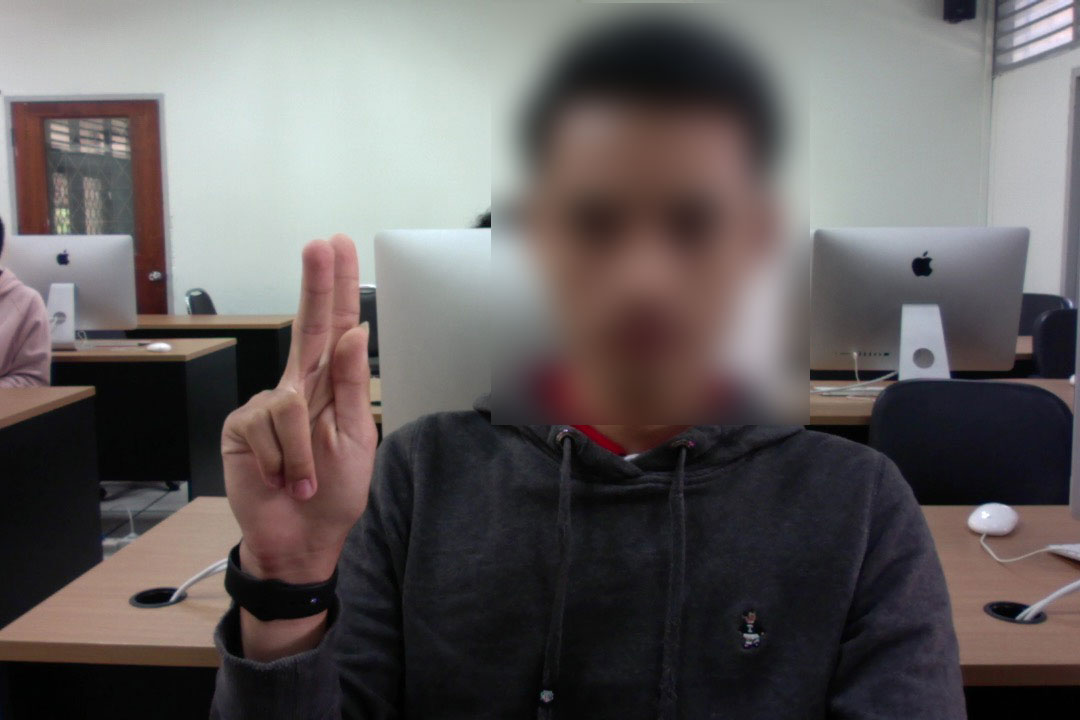ko: (203, 227, 394, 561)
